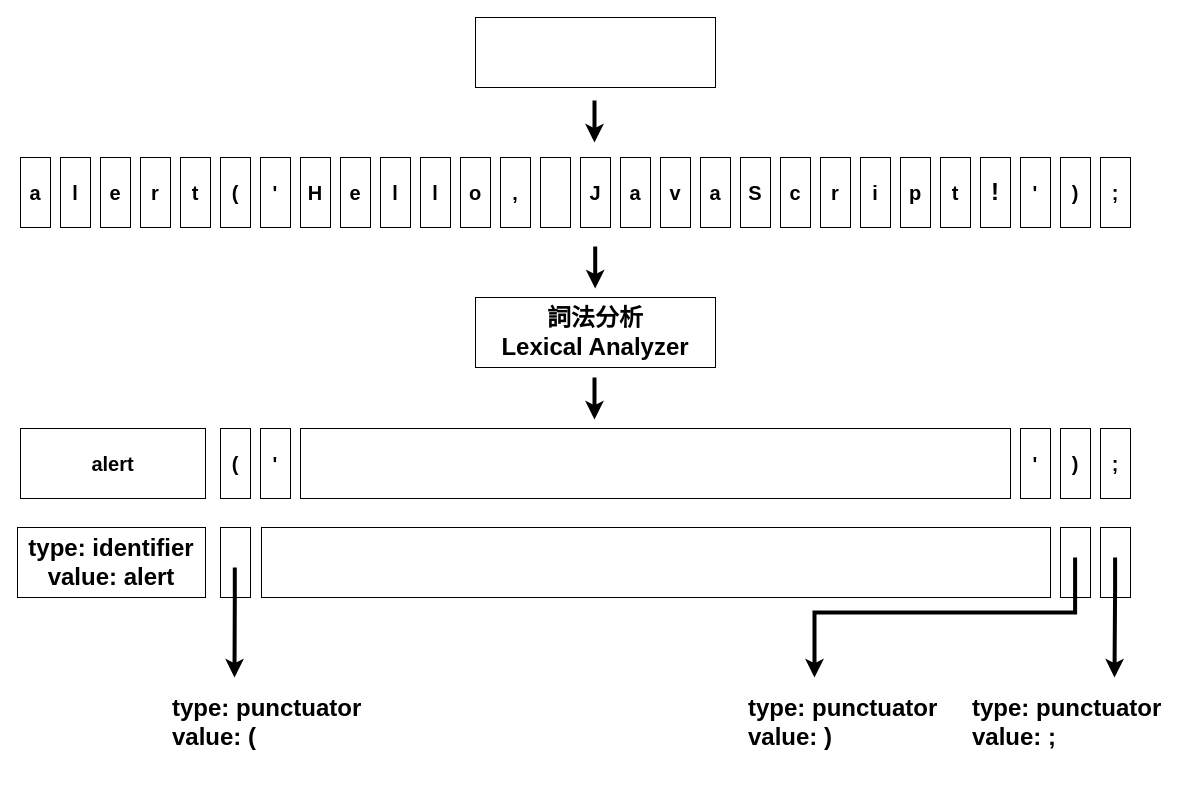
Image size: 1179x785. Some labels were removed from this diagram. The shapes that lost their labels are listed below. From the top down, each one's box as (x1, y1, x2, y2) in pixels, then its label:
(474, 16, 716, 88): 標記化 tokenization
(300, 428, 1010, 498): Hello, JavaScript!
(260, 526, 1050, 598): type: string value: 'Hello, JavaScript!'
